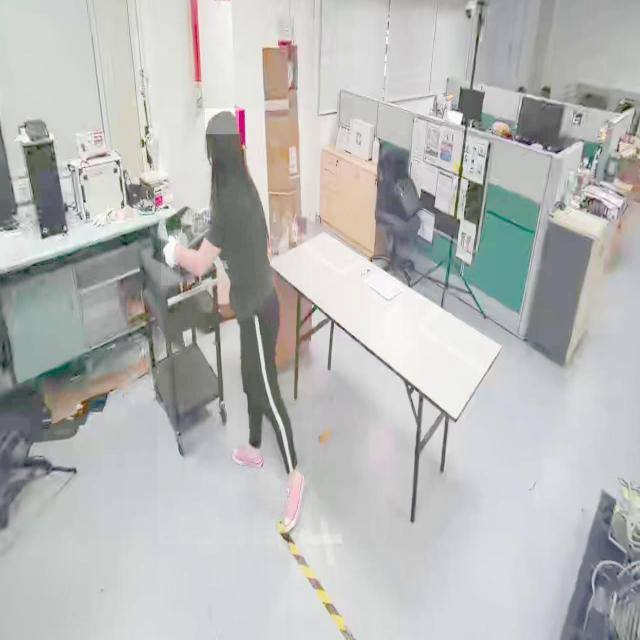hand_glove: (161, 230, 180, 286)
head_nohelmet: (205, 109, 239, 135)
person: (158, 108, 312, 545)
shoes: (280, 464, 306, 540), (229, 439, 266, 477)
